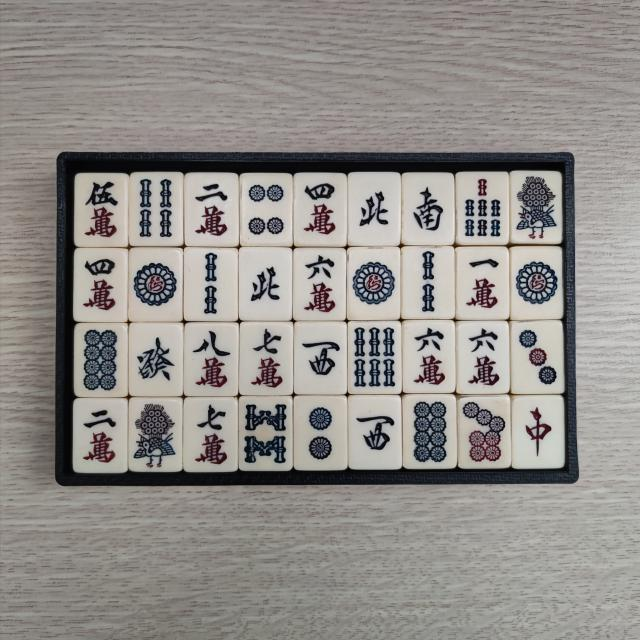hdg: (134, 327, 180, 392)
hdr: (517, 400, 559, 466)
hwn: (246, 252, 290, 315), (352, 178, 394, 240)
hws: (406, 176, 449, 240)
hww: (355, 402, 399, 466), (298, 326, 342, 390)
sb1: (132, 402, 179, 469), (514, 175, 558, 241)
sb2: (189, 250, 234, 318), (406, 250, 451, 316)
sb4: (136, 176, 180, 242)
sb6: (350, 324, 398, 389)
sb7: (462, 176, 506, 240)
sb8: (242, 399, 288, 466)
sc1: (462, 253, 506, 315)
sc2: (191, 178, 236, 244), (80, 404, 124, 468)
sc4: (296, 178, 341, 243), (77, 255, 121, 319)
sc5: (80, 177, 124, 242)
sc6: (298, 252, 342, 317), (407, 325, 450, 390), (461, 326, 504, 390)
sc7: (246, 326, 290, 392), (189, 402, 232, 468)
sc8: (188, 327, 234, 392)
sd1: (131, 253, 179, 318), (349, 252, 396, 316), (514, 252, 560, 315)
sd2: (298, 400, 342, 465)
sd3: (516, 325, 560, 389)
sd4: (247, 178, 290, 242)
sd7: (462, 400, 509, 466)
sd8: (408, 399, 451, 466), (80, 328, 122, 394)
